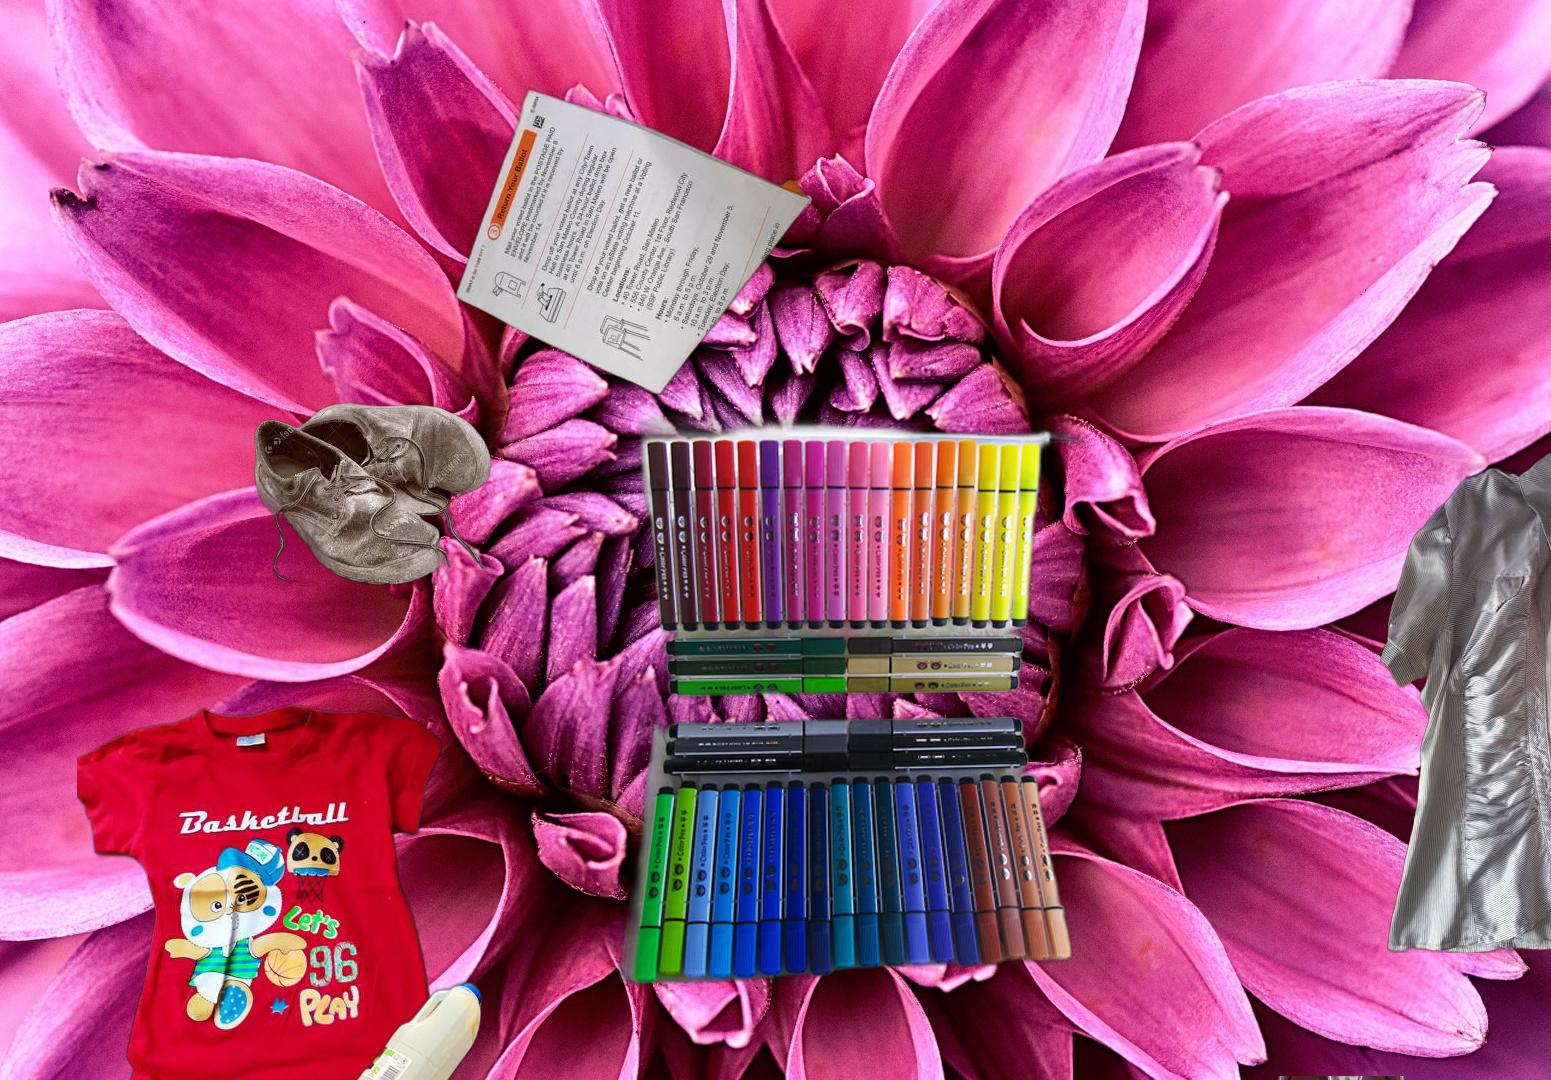battery: (1497, 651, 1551, 797)
clothes: (77, 702, 445, 1080), (1380, 439, 1551, 953)
paper: (450, 85, 816, 399)
penholder: (486, 411, 1091, 1010)
plastic-bottles: (346, 960, 764, 1080)
shoes: (252, 403, 494, 590), (1265, 1076, 1415, 1080)
